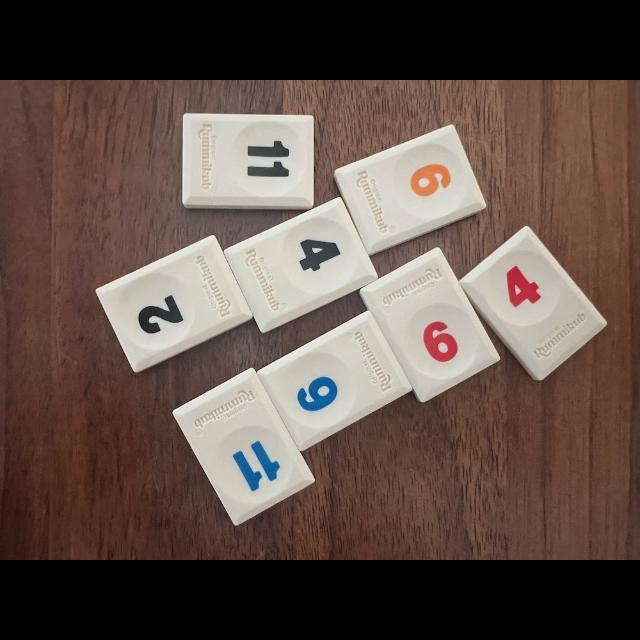black_11: (182, 114, 314, 210)
black_2: (98, 236, 252, 372)
black_4: (225, 198, 378, 332)
blue_11: (174, 369, 314, 525)
blue_6: (258, 311, 411, 451)
orange_6: (335, 125, 486, 255)
red_4: (460, 226, 606, 380)
red_9: (360, 248, 500, 401)
